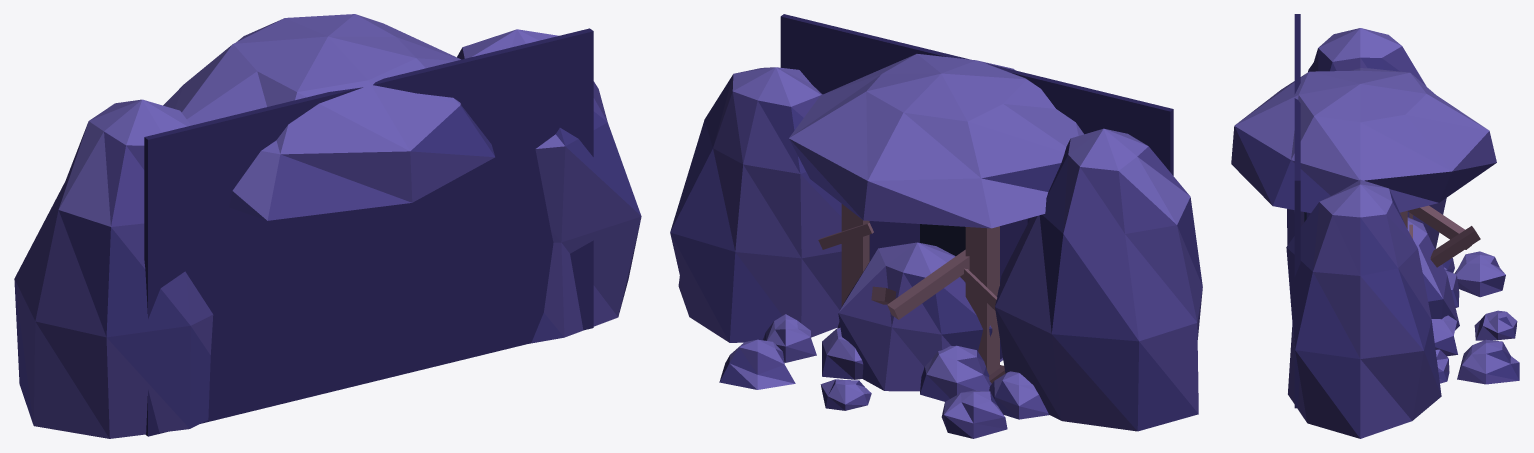
Rendered from Mine_Door_Collapsed.obj.
3 views of the same model, side by side, from view 1: azimuth 30°, elevation 25°; view 2: azimuth 150°, elevation 25°; view 3: azimuth 270°, elevation 25° (orthographic). The views are drawn at different scales.
Visible parts, largest first — view 1: Mine_Door_Collapsed; view 2: Mine_Door_Collapsed; view 3: Mine_Door_Collapsed.
Part boxes in pixels (x1,y1,x2,y2): Mine_Door_Collapsed: (14, 14, 641, 438); Mine_Door_Collapsed: (670, 14, 1202, 438); Mine_Door_Collapsed: (1231, 14, 1519, 438).
Bounding box in the file's own units: 8.81 × 4.53 × 4.83.
